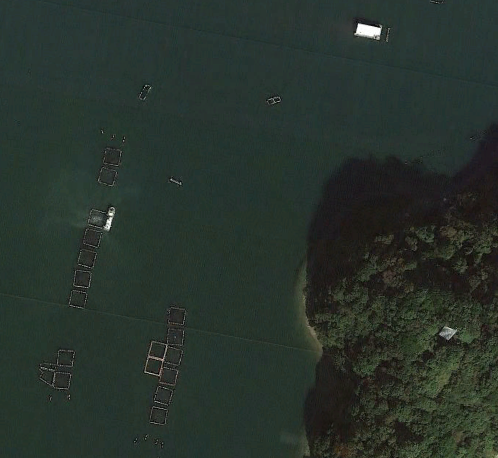ship: (102, 201, 119, 231)
square: (76, 225, 109, 250), (101, 142, 128, 171), (68, 248, 107, 268), (84, 206, 113, 232), (61, 286, 89, 312), (92, 162, 119, 188), (151, 382, 176, 409), (145, 406, 171, 431), (68, 268, 96, 291), (54, 344, 79, 369), (143, 336, 167, 361), (161, 325, 188, 347), (51, 370, 74, 394), (165, 303, 189, 326), (140, 356, 164, 379), (156, 366, 179, 388), (163, 343, 184, 367)
